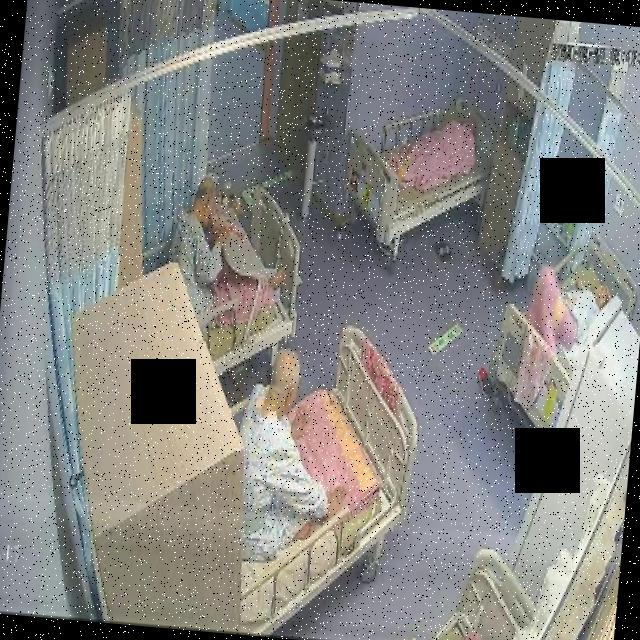bed: (226, 318, 427, 640), (483, 222, 640, 457), (165, 183, 306, 384), (339, 86, 493, 253)
lie: (528, 272, 614, 358)
patient: (228, 346, 360, 570), (168, 180, 294, 330), (555, 276, 613, 357)
sit: (228, 342, 359, 568), (169, 178, 298, 330)
